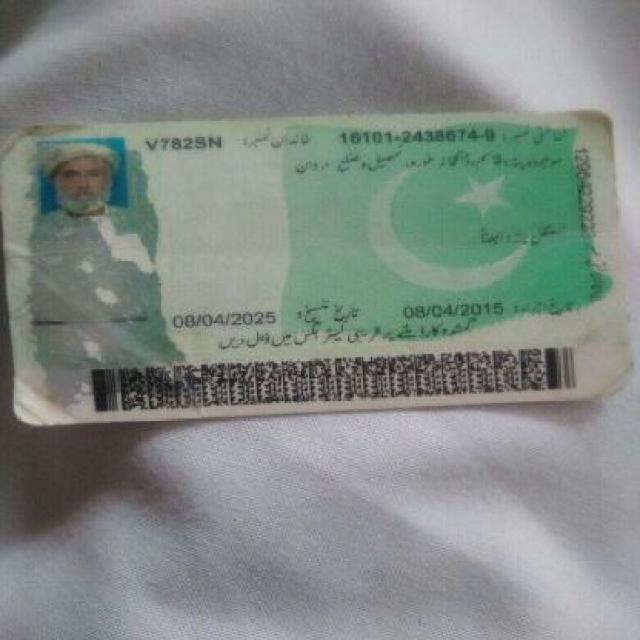Back: (6, 111, 637, 420)
